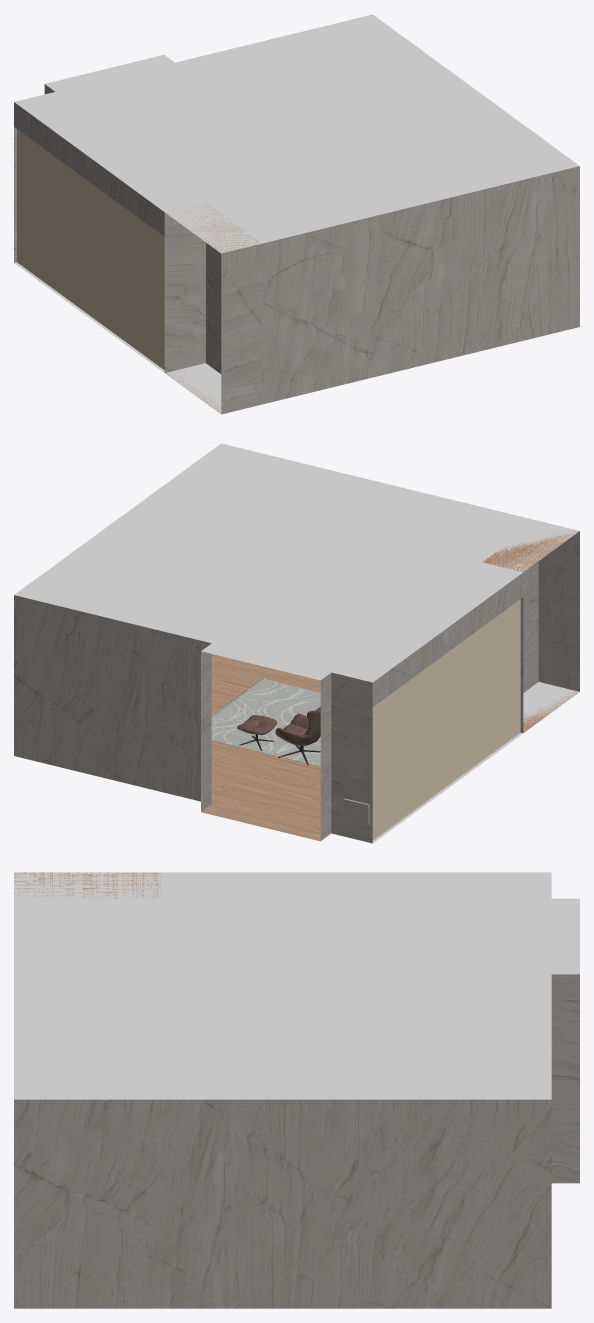
The model's file is room.glb.
The picture shows the model from 3 angles, top to bottom: view 1: azimuth 30°, elevation 25°; view 2: azimuth 150°, elevation 25°; view 3: azimuth 270°, elevation 25°; orthographic projection. The views are drawn at different scales.
Visible parts, largest first — view 1: Cube; view 2: Cube, carpet, ArmchairLeyaWingbackReplica001.001, ArmchairLeyaWingbackReplicaFootrest001.001, Cube.001; view 3: Cube.
Boxes of the visible parts, bbox=[...] form: Cube: bbox=[14, 14, 579, 414]; Cube: bbox=[14, 443, 579, 843]; carpet: bbox=[211, 678, 320, 766]; ArmchairLeyaWingbackReplica001.001: bbox=[275, 707, 320, 764]; ArmchairLeyaWingbackReplicaFootrest001.001: bbox=[237, 715, 276, 750]; Cube.001: bbox=[343, 798, 369, 824]; Cube: bbox=[14, 872, 579, 1308].
Bounding box in the file's own units: 7 × 3 × 7.37.
10 materials, 9 textured.
